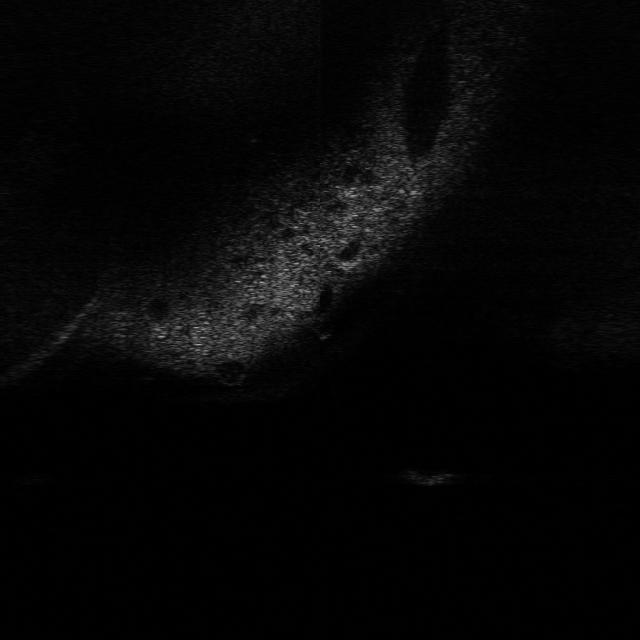ball: (308, 312, 341, 342)
cube: (399, 464, 403, 466)
